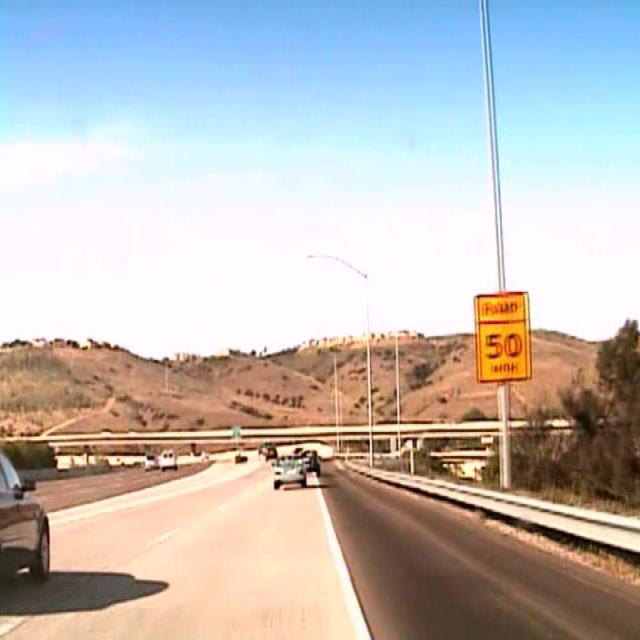speedLimit50: (472, 289, 531, 384)
